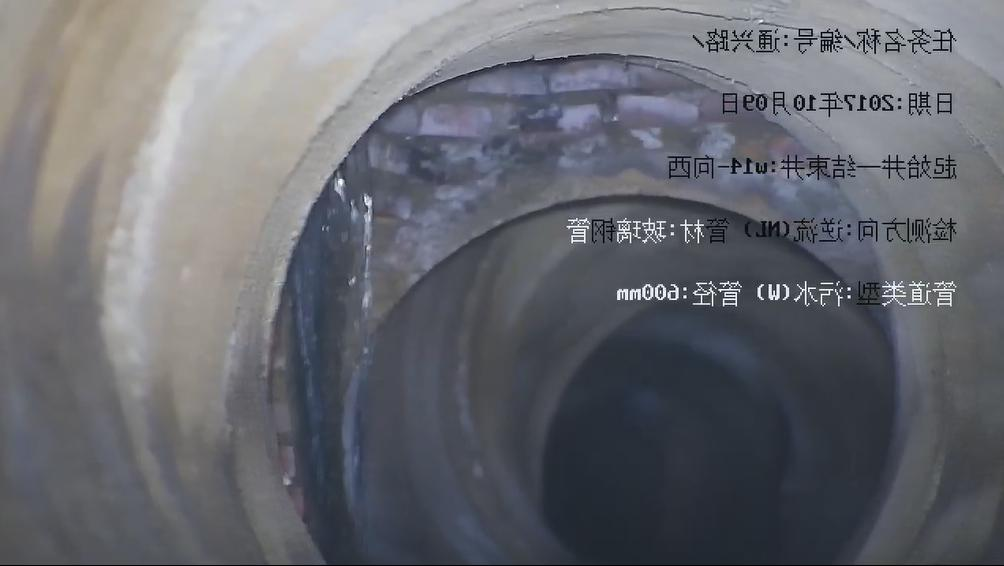SL: (282, 145, 388, 538)
